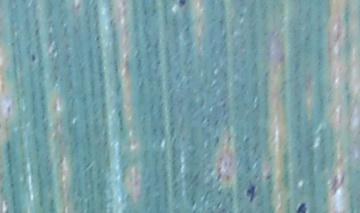tarspot: (245, 181, 255, 202), (296, 203, 307, 213), (30, 54, 37, 63), (178, 1, 187, 8)
